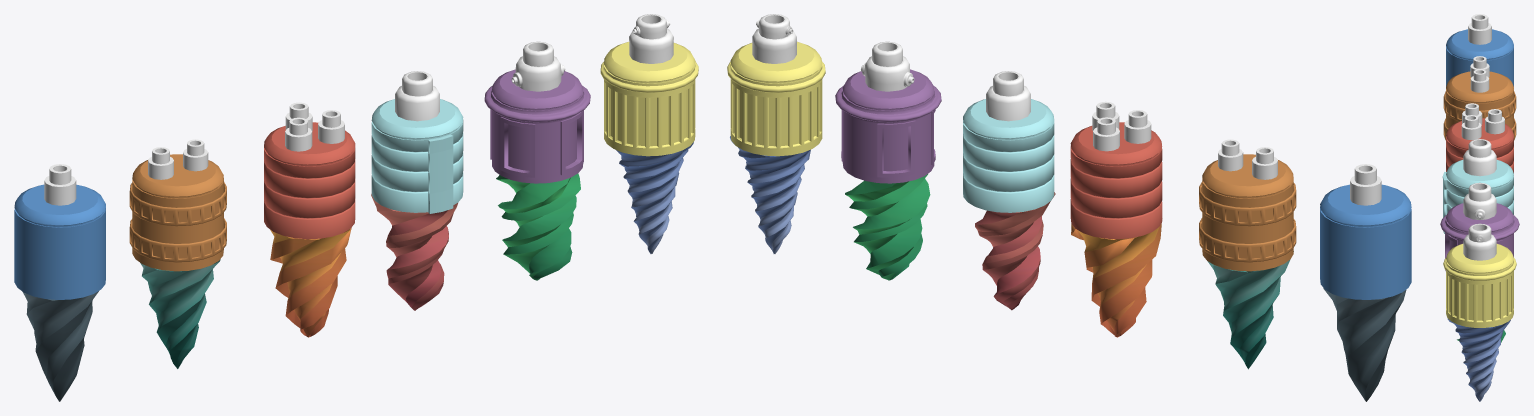
The model's file is drills.fbx.
3 views of the same model, side by side, from view 1: azimuth 30°, elevation 25°; view 2: azimuth 150°, elevation 25°; view 3: azimuth 270°, elevation 25° (orthographic). The views are drawn at different scales.
Visible parts, largest first — view 1: Cylinder, Cylinder.002, Cylinder.001, Cylinder.004, Cylinder.005, Cube.004, Cylinder.006, Cube.001, Cube.003, Cube.002, Cube, Cube.005 (+10 smaller); view 2: Cylinder, Cylinder.002, Cylinder.001, Cylinder.004, Cylinder.005, Cube.004, Cylinder.006, Cube.001, Cube.003, Cube.002, Cube, Cube.005 (+10 smaller); view 3: Cylinder.001, Cylinder, Cube.005, Cylinder.004, Cylinder.006, Cylinder.002, Cylinder.005, Cylinder.014, Cylinder.015, Cylinder.016, Cylinder.008, Cylinder.017 (+6 smaller).
Boxes of the visible parts, bbox=[...] form: Cylinder: bbox=[14, 184, 105, 299]; Cylinder.002: bbox=[484, 69, 590, 183]; Cylinder.001: bbox=[600, 42, 698, 156]; Cylinder.004: bbox=[371, 99, 463, 213]; Cylinder.005: bbox=[264, 122, 355, 239]; Cube.004: bbox=[496, 173, 580, 280]; Cylinder.006: bbox=[132, 154, 223, 271]; Cube.001: bbox=[270, 227, 351, 337]; Cube.003: bbox=[371, 194, 457, 310]; Cube.002: bbox=[22, 291, 98, 401]; Cube: bbox=[140, 259, 220, 368]; Cube.005: bbox=[616, 142, 693, 253]; Cylinder: bbox=[1320, 184, 1411, 299]; Cylinder.002: bbox=[835, 69, 941, 183]; Cylinder.001: bbox=[727, 41, 825, 156]; Cylinder.004: bbox=[963, 99, 1054, 212]; Cylinder.005: bbox=[1070, 122, 1162, 239]; Cube.004: bbox=[845, 174, 930, 280]; Cylinder.006: bbox=[1202, 154, 1293, 271]; Cube.001: bbox=[1071, 222, 1161, 337]; Cube.003: bbox=[975, 192, 1055, 310]; Cube.002: bbox=[1323, 288, 1406, 401]; Cube: bbox=[1207, 251, 1293, 369]; Cube.005: bbox=[730, 136, 810, 253]; Cylinder.001: bbox=[1443, 244, 1516, 327]; Cylinder: bbox=[1446, 29, 1513, 86]; Cube.005: bbox=[1447, 318, 1510, 401]; Cylinder.004: bbox=[1442, 160, 1513, 233]; Cylinder.006: bbox=[1446, 71, 1513, 128]; Cylinder.002: bbox=[1440, 203, 1519, 270]; Cylinder.005: bbox=[1446, 118, 1513, 173]; Cylinder.014: bbox=[1463, 139, 1496, 176]; Cylinder.015: bbox=[1463, 182, 1496, 219]; Cylinder.016: bbox=[1463, 223, 1496, 260]; Cylinder.008: bbox=[1468, 14, 1491, 44]; Cylinder.017: bbox=[1443, 91, 1516, 121].
Bounding box in the file's own units: 1542 × 523 × 212.
